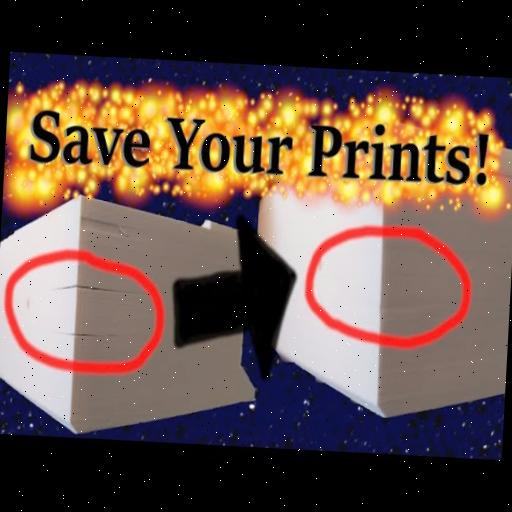cracks: (54, 274, 138, 353), (358, 286, 418, 326)
